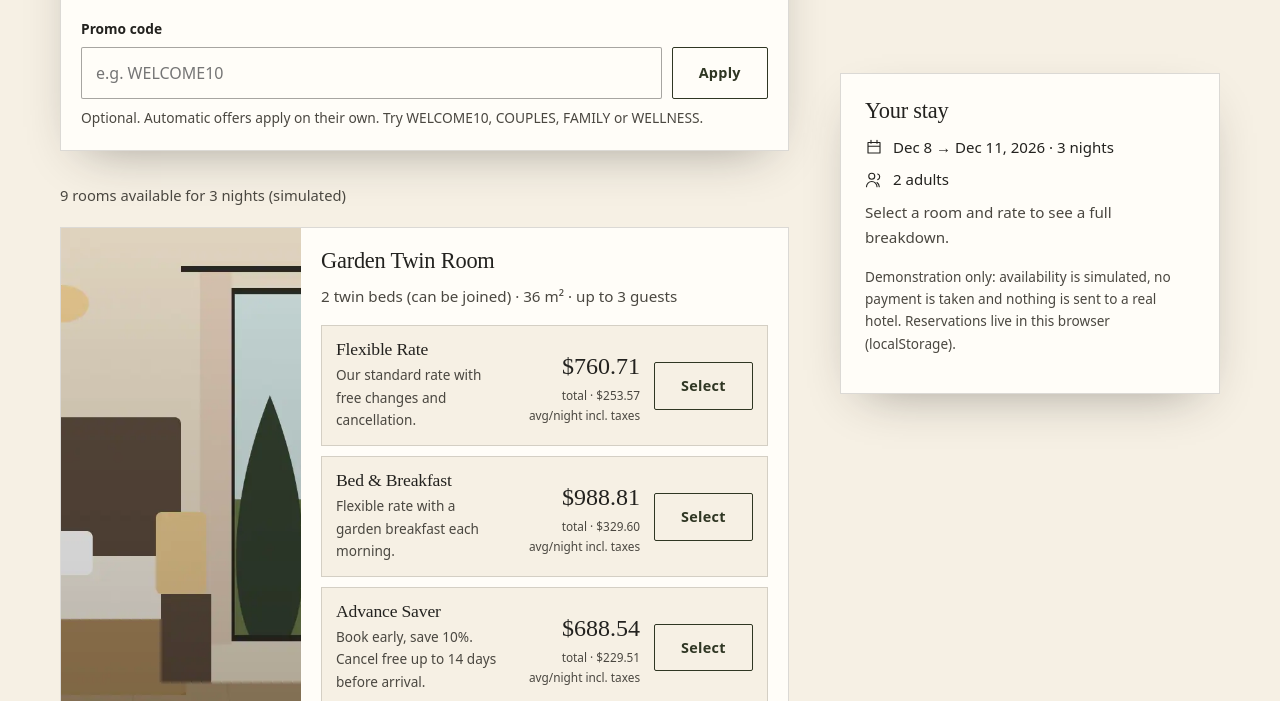
Scenario: Booking page (integration) › validates guest details before review
(page scrolled)
Click the button "Select " next to "$760.71".
click(703, 386)  # box [654,362,753,410]
(page scrolled)
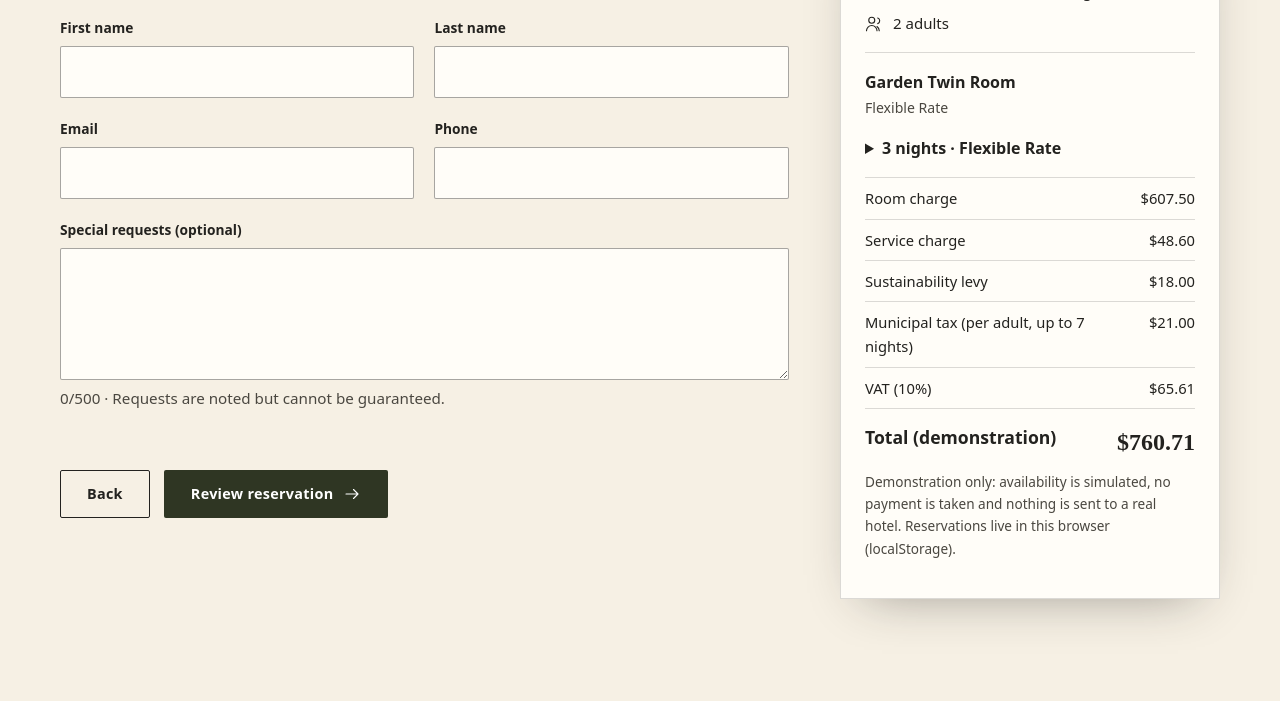
Click the button "Review reservation".
click(276, 494)  # box [164,470,388,518]
(page scrolled)
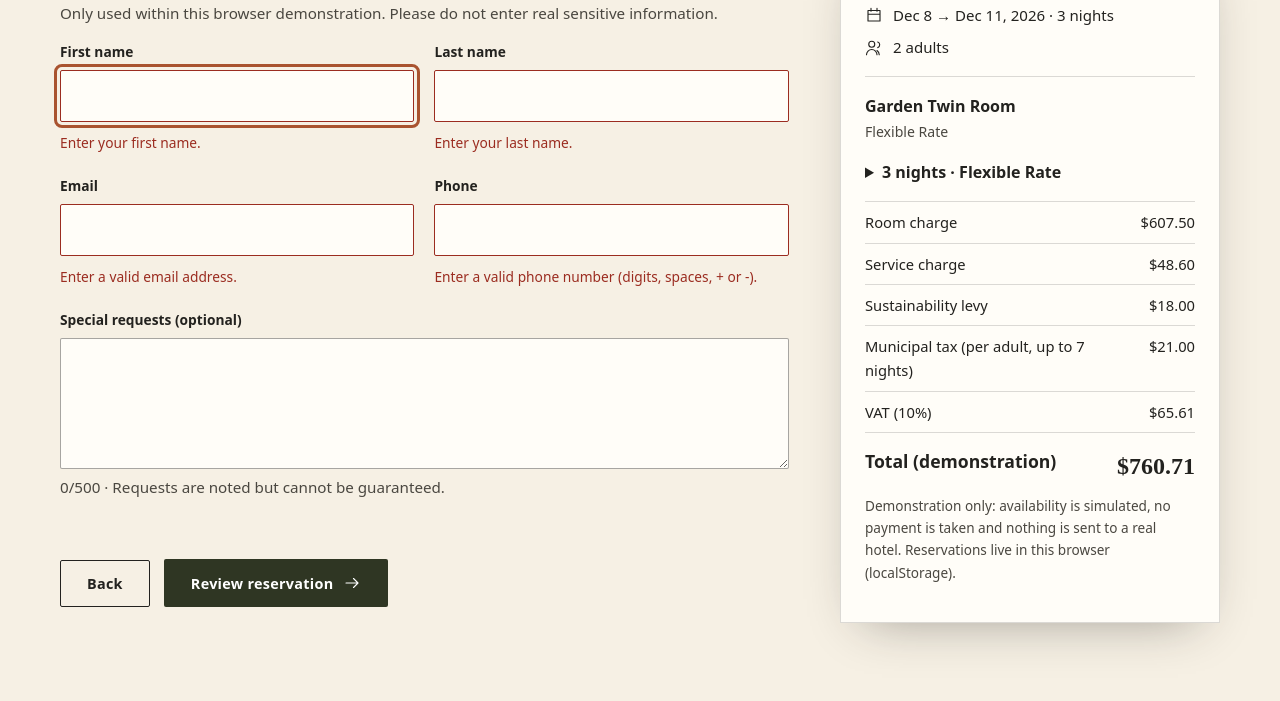
Expected: the text "Enter a valid email address." is shown, [60,267,237,286]
